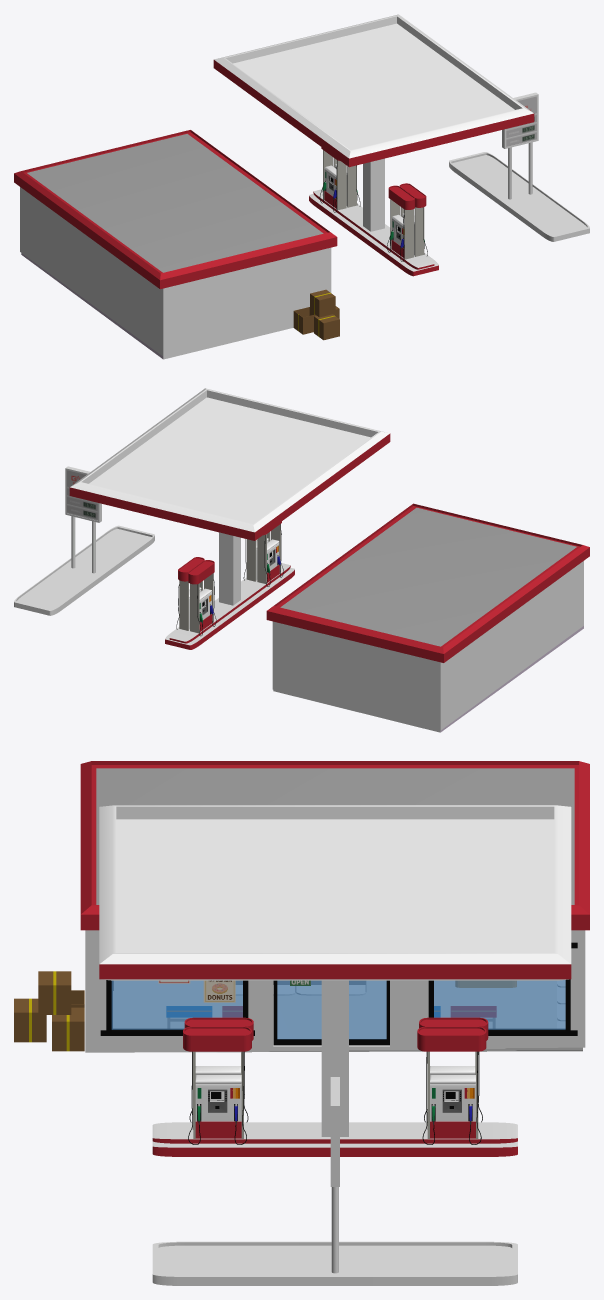
File: station.glb
3 renders of one model, top to bottom at view 1: azimuth 30°, elevation 25°; view 2: azimuth 150°, elevation 25°; view 3: azimuth 270°, elevation 25°, orthographic. The views are drawn at different scales.
Visible parts, largest first — view 1: Store, Gas_Pumps, Sign, Box_Open; view 2: Store, Gas_Pumps, Sign; view 3: Gas_Pumps, Store, Sign, Box_Open, Door2, Door, Shelf.002, DisplayShelf1, Sign2, DisplayShelf2.
Boxes of the visible parts, bbox=[...] form: Store: bbox=[14, 130, 337, 359]; Gas_Pumps: bbox=[213, 14, 534, 276]; Sign: bbox=[449, 92, 589, 241]; Box_Open: bbox=[293, 289, 339, 340]; Store: bbox=[266, 503, 589, 732]; Gas_Pumps: bbox=[69, 388, 390, 649]; Sign: bbox=[14, 466, 154, 615]; Gas_Pumps: bbox=[99, 805, 571, 1156]; Store: bbox=[80, 761, 589, 1052]; Sign: bbox=[152, 1077, 517, 1285]; Box_Open: bbox=[14, 971, 84, 1051]; Door2: bbox=[273, 980, 321, 1045]; Door: bbox=[349, 980, 389, 1045]; Shelf.002: bbox=[236, 981, 365, 995]; DisplayShelf1: bbox=[166, 1006, 242, 1028]; Sign2: bbox=[203, 980, 235, 1002]; DisplayShelf2: bbox=[434, 1006, 496, 1028].
Bounding box in the file's own units: 31.11 × 10.17 × 19.65.
Materials: 5 (5 with a texture image).
